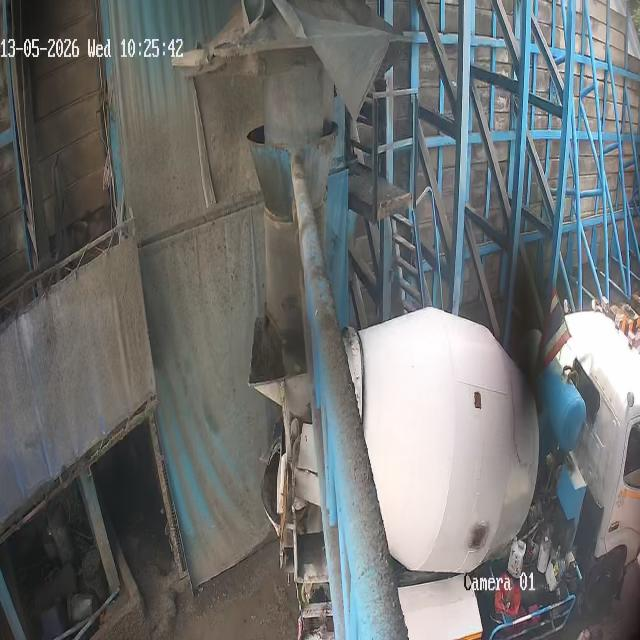cement_mixer_truck: (245, 306, 638, 639)
swing_chute: (249, 124, 345, 368)
